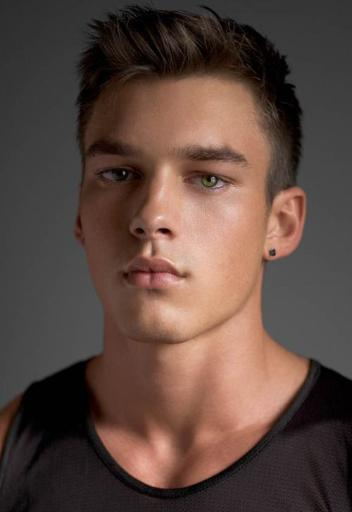left_eye: (185, 170, 238, 196)
left_lip_corner: (179, 268, 195, 289)
right_eye: (96, 166, 144, 190)
right_lip_corner: (119, 267, 132, 287)
